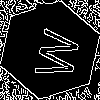W: (25, 25, 81, 82)
